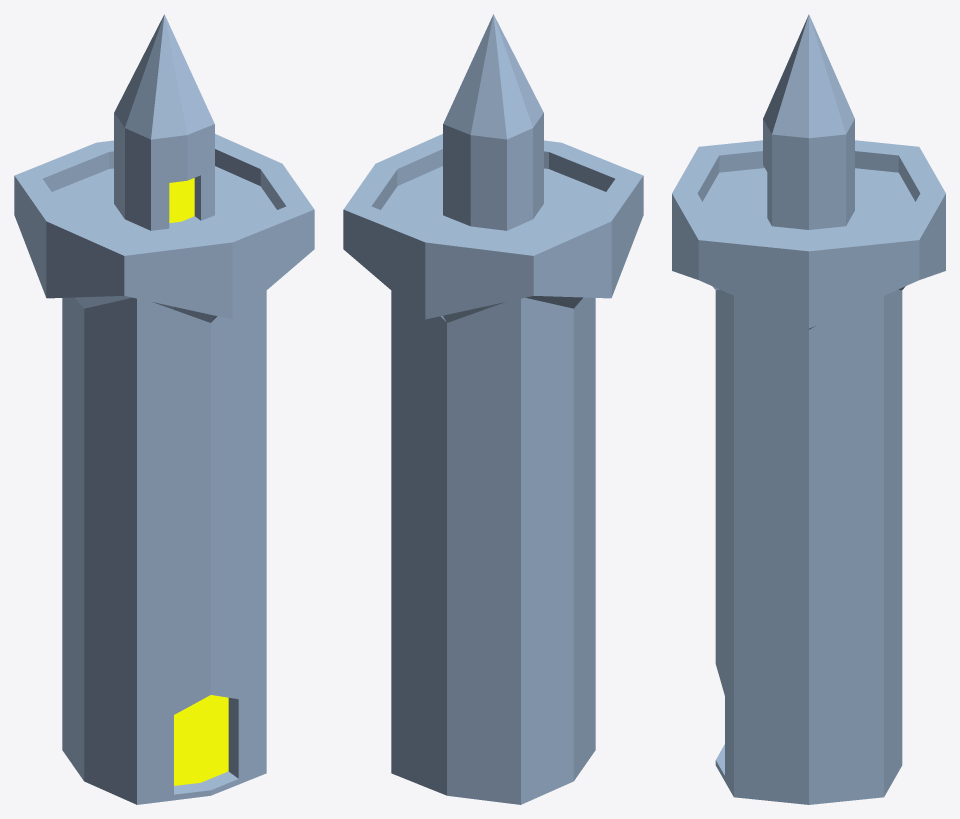
File: Gilded_Tower.glb
The picture shows the model from 3 angles, left to right: view 1: azimuth 30°, elevation 25°; view 2: azimuth 150°, elevation 25°; view 3: azimuth 270°, elevation 25°; orthographic projection.
Visible parts, largest first — view 1: Dark Tower; view 2: Dark Tower; view 3: Dark Tower.
Part boxes in pixels (box(x1,y1,x2,y2)): Dark Tower: box(14, 14, 314, 804); Dark Tower: box(343, 14, 643, 804); Dark Tower: box(672, 14, 945, 804).
Bounding box in the file's own units: 0.6614 × 2 × 0.6614.
